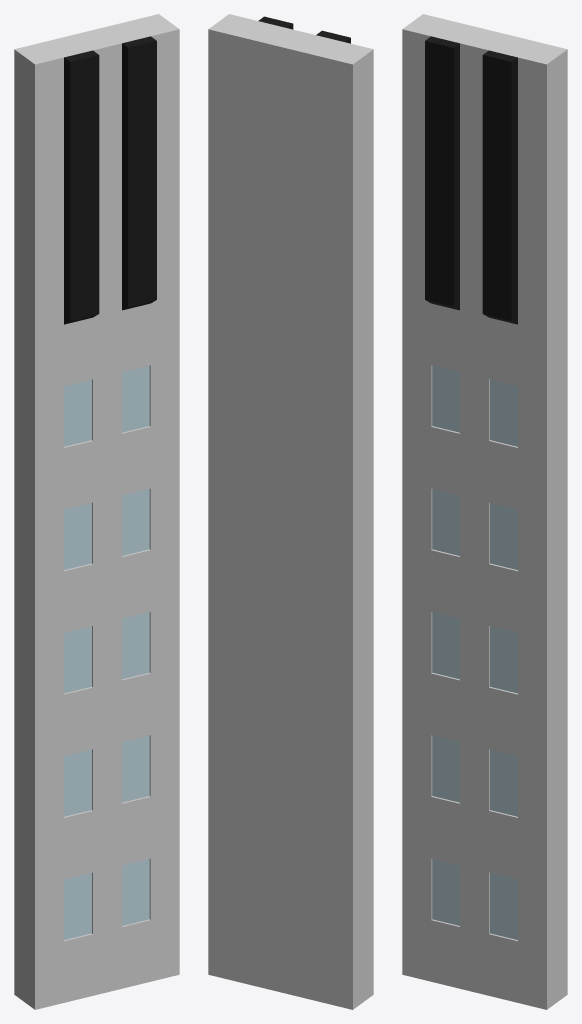
File: citytower1.fbx
3 views of the same model, side by side, from view 1: azimuth 30°, elevation 25°; view 2: azimuth 150°, elevation 25°; view 3: azimuth 330°, elevation 25° (orthographic).
Visible parts, largest first — view 1: pCube1; view 2: pCube1; view 3: pCube1.
Part boxes in pixels (bbox=[...]): pCube1: bbox=[14, 14, 179, 1009]; pCube1: bbox=[208, 14, 373, 1009]; pCube1: bbox=[402, 14, 567, 1009].
Size of the model in its own units: 4 by 25 by 1.3.
